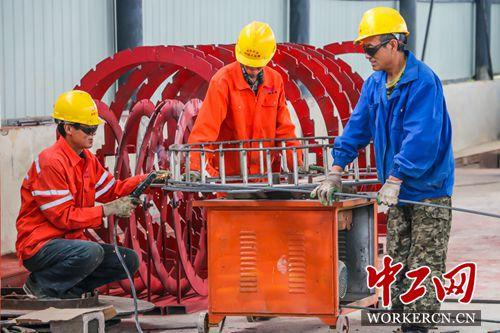gloves: (310, 170, 343, 206), (376, 176, 403, 214), (102, 195, 139, 219)
hard-hat: (353, 5, 410, 45), (235, 21, 277, 68), (52, 89, 105, 125)
person: (310, 5, 456, 333), (15, 88, 159, 300), (186, 19, 304, 193)
vest: (329, 49, 453, 199), (186, 59, 304, 183), (18, 135, 122, 251)
